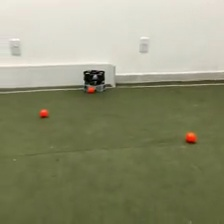ball: (184, 131, 197, 143), (38, 107, 48, 118), (88, 85, 95, 93)
goal: (1, 63, 118, 89)
robot: (82, 68, 108, 93)
